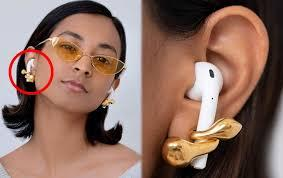earphone: (183, 57, 224, 168), (25, 57, 38, 76)
